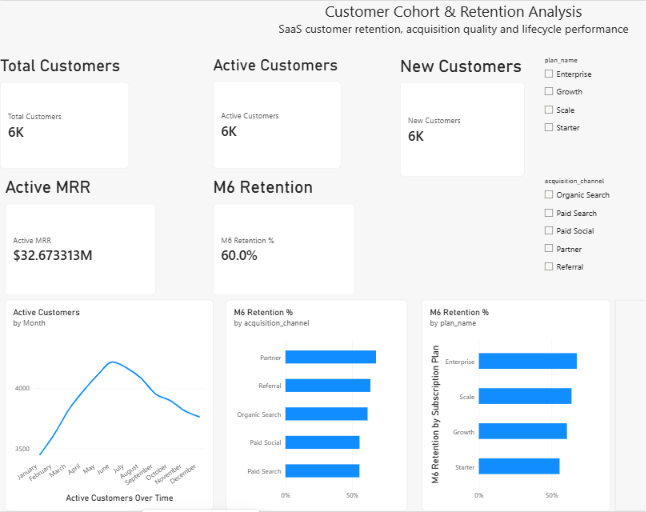

Layout of this report page (visuals, bound fields, positions):
{"tool":"powerbi","page":{"name":"Executive Overview","canvas":[1920,1080],"ordinal":0},"visuals":[{"type":"cardVisual","title":"Total Customers","fields":{"Data":["CustomerMonthlyActivity.Total Customers"]},"box":[0,116.5,273.1,239.3],"z":0},{"type":"cardVisual","title":"Active Customers","fields":{"Data":["CustomerMonthlyActivity.Active Customers"]},"box":[451,116.5,271,239.3],"z":1000},{"type":"cardVisual","title":"New Customers","fields":{"Data":["CustomerMonthlyActivity.New Customers"]},"box":[846.9,116.5,264.7,256.2],"z":2000},{"type":"cardVisual","title":"Active MRR","fields":{"Data":["CustomerMonthlyActivity.Active MRR"]},"box":[10.6,372.7,319.7,249.8],"z":3000},{"type":"cardVisual","title":"M6 Retention","fields":{"Data":["CustomerMonthlyActivity.M6 Retention %"]},"box":[451,372.7,300.7,249.8],"z":4000},{"type":"lineChart","fields":{"Category":["CustomerMonthlyActivity.snapshot_month.Variation.Date Hierarchy.Month"],"Y":["CustomerMonthlyActivity.Active Customers"]},"box":[10.6,633.1,440.4,446.8],"z":5000},{"type":"clusteredBarChart","fields":{"Category":["Accounts.acquisition_channel"],"Y":["CustomerMonthlyActivity.M6 Retention %"]},"box":[478.5,633.1,383.2,446.8],"z":6000},{"type":"clusteredBarChart","fields":{"Category":["Plans.plan_name"],"Y":["CustomerMonthlyActivity.M6 Retention %"]},"box":[893.5,633.1,398.1,446.8],"z":7000},{"type":"slicer","fields":{"Values":["Accounts.acquisition_channel"]},"box":[1145.5,372.7,175.7,249.8],"z":8000},{"type":"slicer","fields":{"Values":["Plans.plan_name"]},"box":[1145.5,116.5,258.3,256.2],"z":9000},{"type":"textbox","box":[1302,633,398,447],"z":9001},{"type":"textbox","box":[0,0,1920.4,93.2],"z":9002}]}

Visuals, with their boxes on the page's 1920x1080 design canvas (x1, y1, x2, y2). These are canvas units, not pixel positions in the 646x512 screenshot, which may show the page scaled, cropped or inside an application window:
"Total Customers" cardVisual: left=0, top=116, right=273, bottom=356
"Active Customers" cardVisual: left=451, top=116, right=722, bottom=356
"New Customers" cardVisual: left=847, top=116, right=1112, bottom=373
"Active MRR" cardVisual: left=11, top=373, right=330, bottom=622
"M6 Retention" cardVisual: left=451, top=373, right=752, bottom=622
lineChart - CustomerMonthlyActivity.snapshot_month.Variation.Date Hierarchy.Month x CustomerMonthlyActivity.Active Customers: left=11, top=633, right=451, bottom=1080
clusteredBarChart - Accounts.acquisition_channel x CustomerMonthlyActivity.M6 Retention %: left=478, top=633, right=862, bottom=1080
clusteredBarChart - Plans.plan_name x CustomerMonthlyActivity.M6 Retention %: left=894, top=633, right=1292, bottom=1080
slicer - Accounts.acquisition_channel: left=1146, top=373, right=1321, bottom=622
slicer - Plans.plan_name: left=1146, top=116, right=1404, bottom=373
textbox: left=1302, top=633, right=1700, bottom=1080
textbox: left=0, top=0, right=1920, bottom=93
